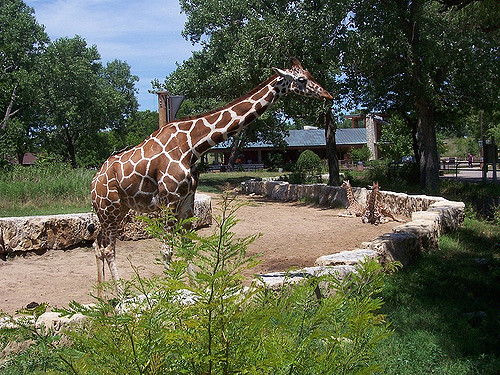giraffe: (87, 54, 342, 281)
